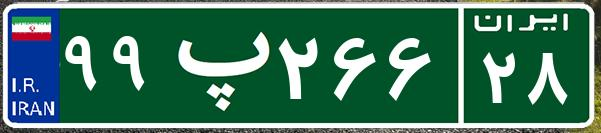2: (273, 28, 330, 110), (475, 38, 525, 113)
6: (385, 28, 445, 110), (330, 28, 385, 110)
8: (525, 38, 570, 115)
9: (57, 26, 110, 107), (110, 28, 158, 105)
پ: (158, 15, 273, 115)
